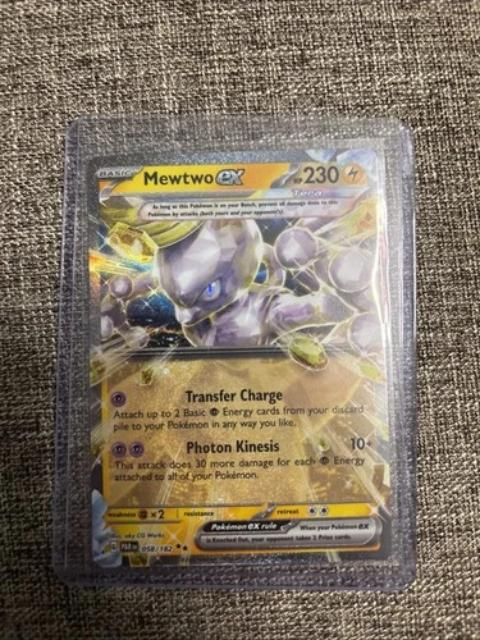Card: (84, 141, 401, 568)
Name: (136, 165, 248, 186)
